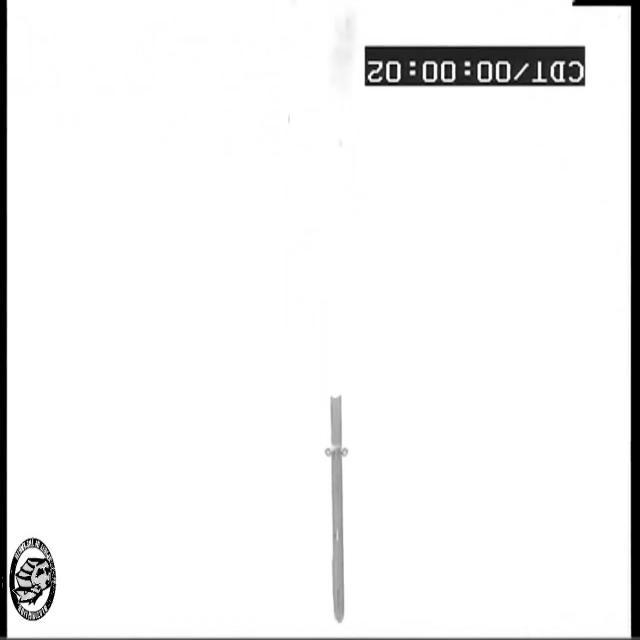missile: (318, 398, 350, 640)
